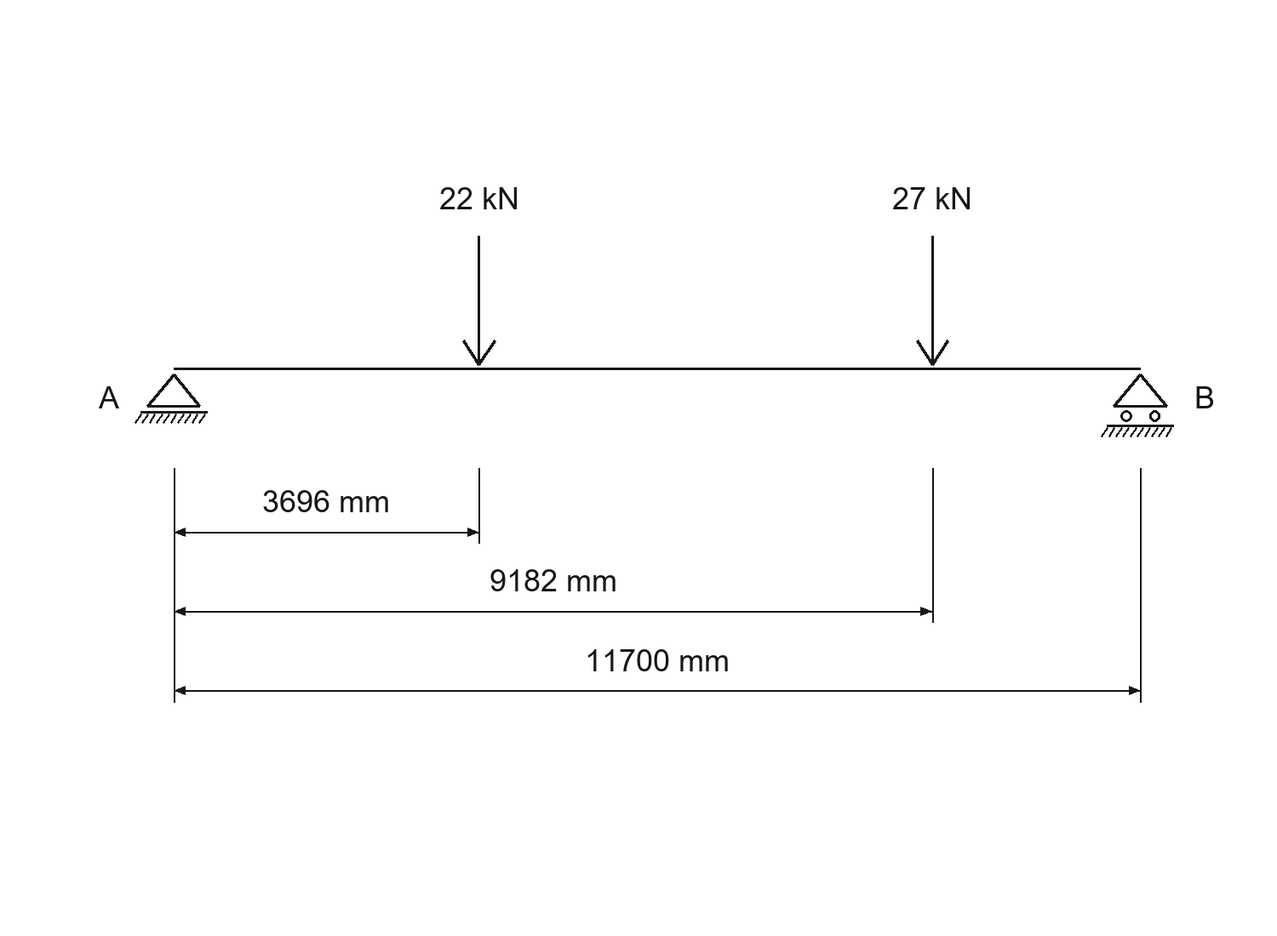pin_support: (135, 374, 208, 424)
point_load: (462, 236, 496, 366), (916, 236, 949, 366)
roller_support: (1101, 374, 1174, 437)
